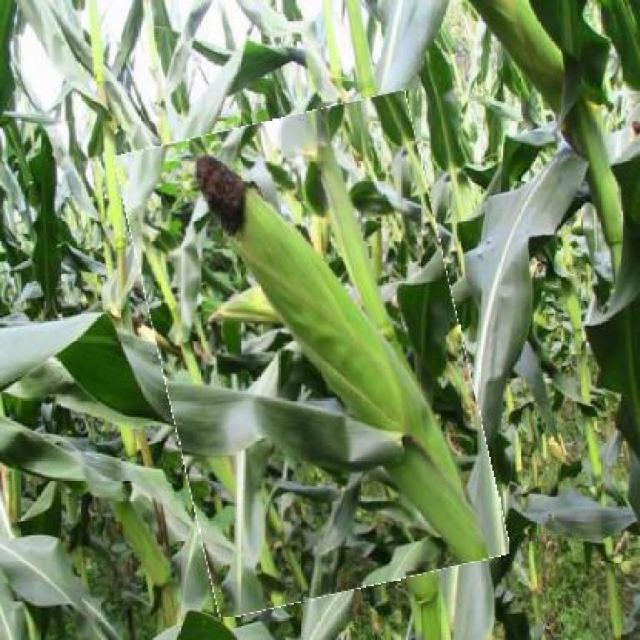Corn: (139, 103, 486, 606)
